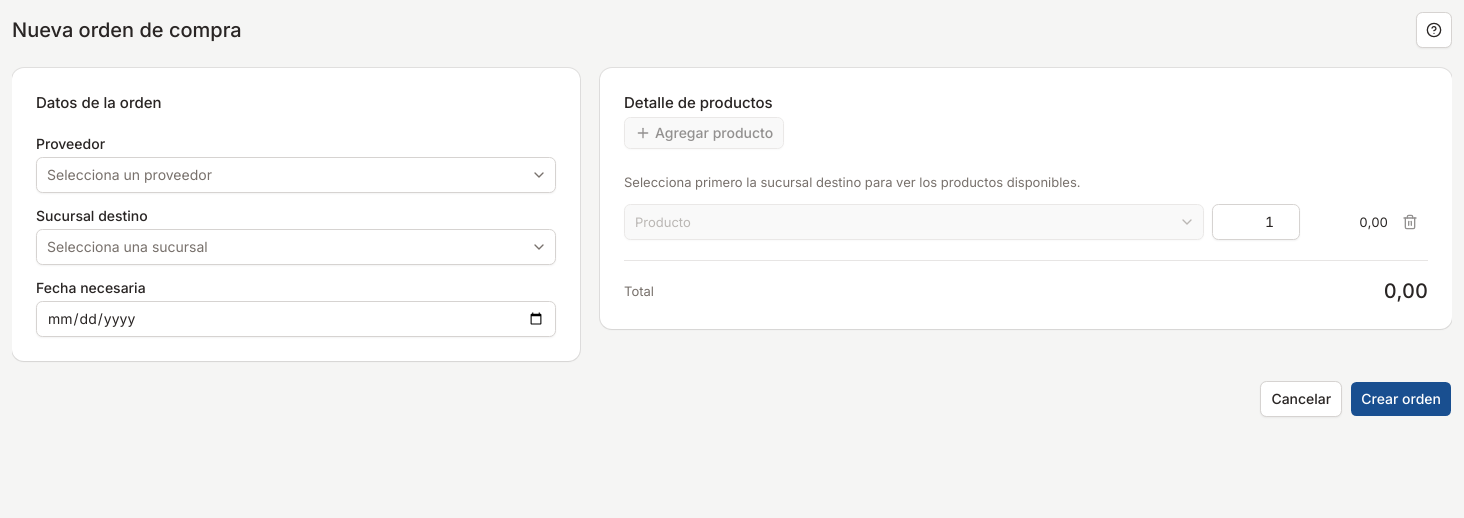
Scenario: formulario de nueva orden › el selector de productos muestra solo los que el backend permite para la sucursal elegida
Click the dropdown named "Sucursal destino": click(127, 247) [36,229,556,265]
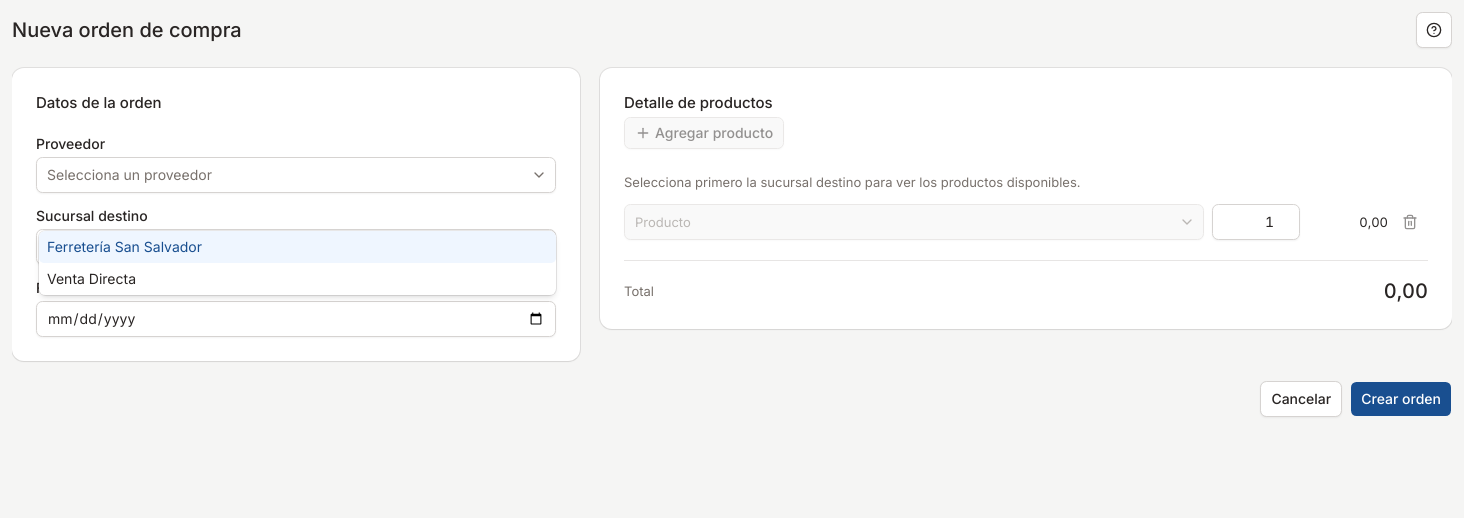
Click the option "Ferretería San Salvador": click(125, 247) [39,231,556,263]
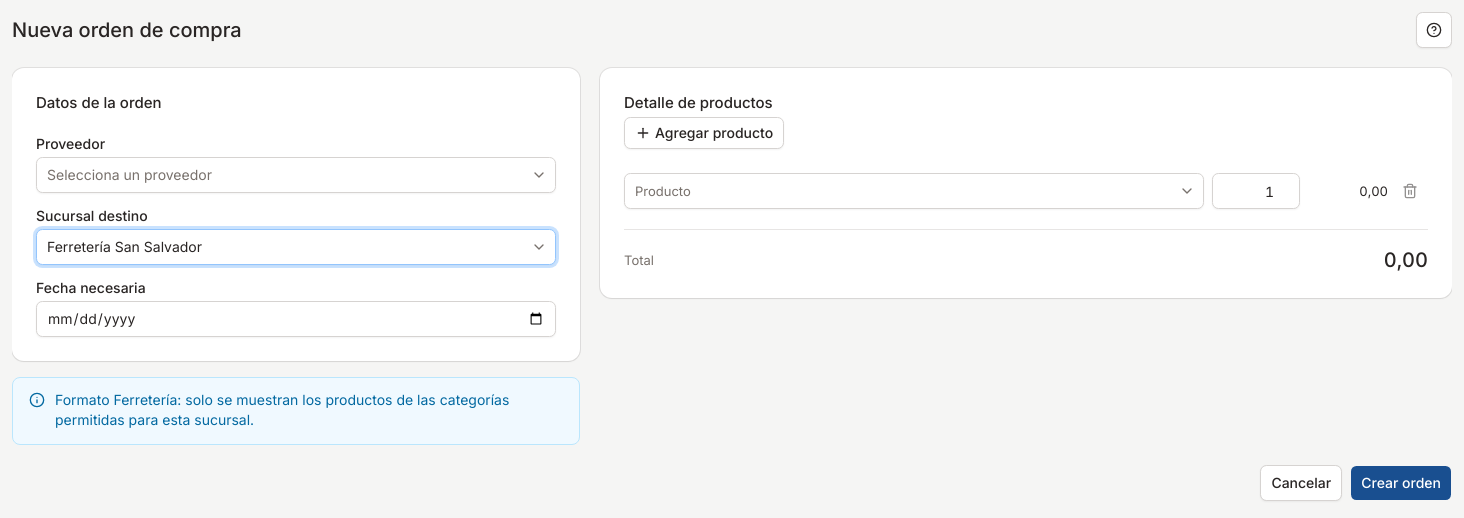
Click the dropdown named "Producto 1": click(663, 191) [624,173,1204,209]
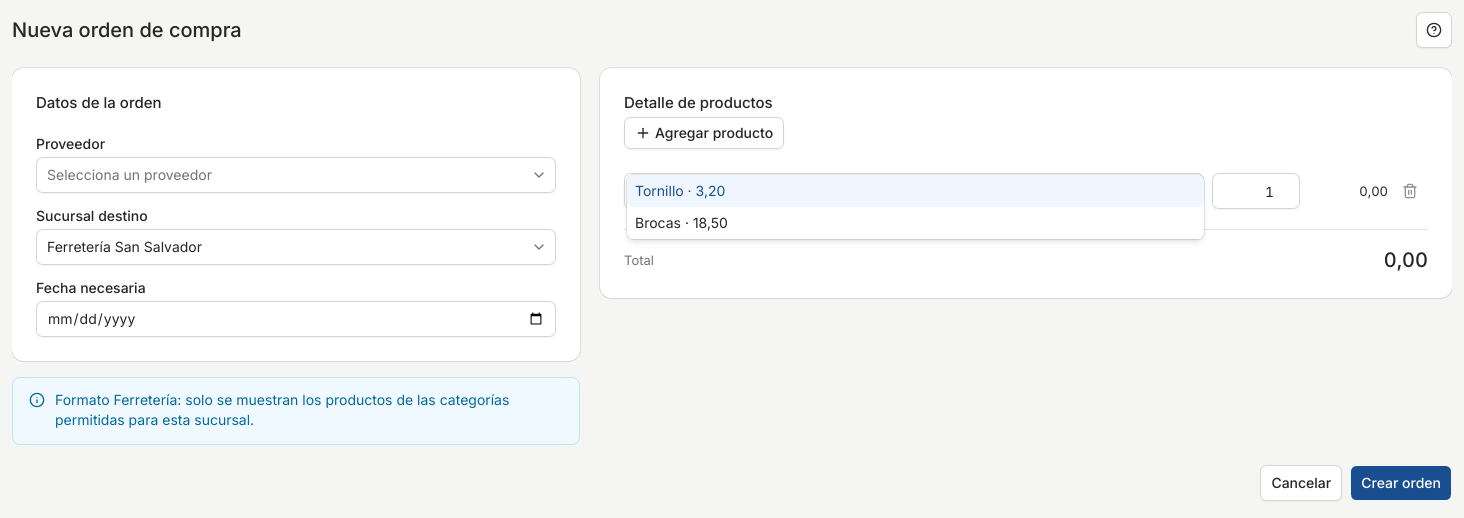
Expected: the options read "Tornillo · 3,20", "Brocas · 18,50", in this order, [627,175,1204,207]; [635,214,728,231]
